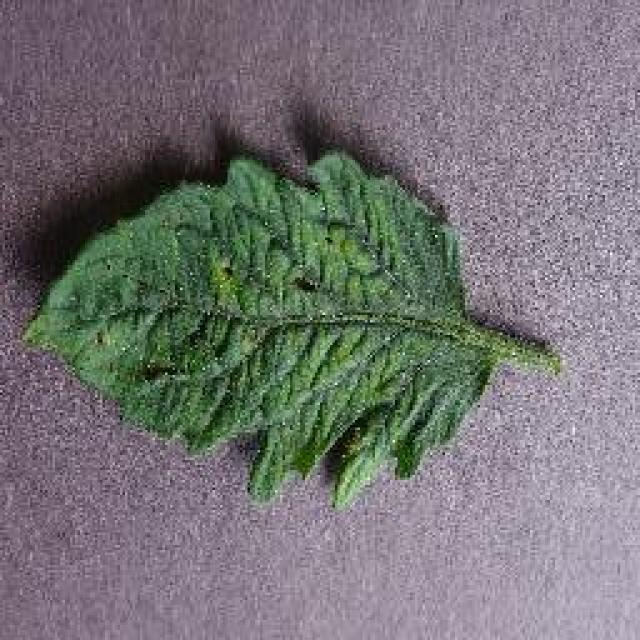Tomato spider mites leaf: (23, 149, 495, 506)
